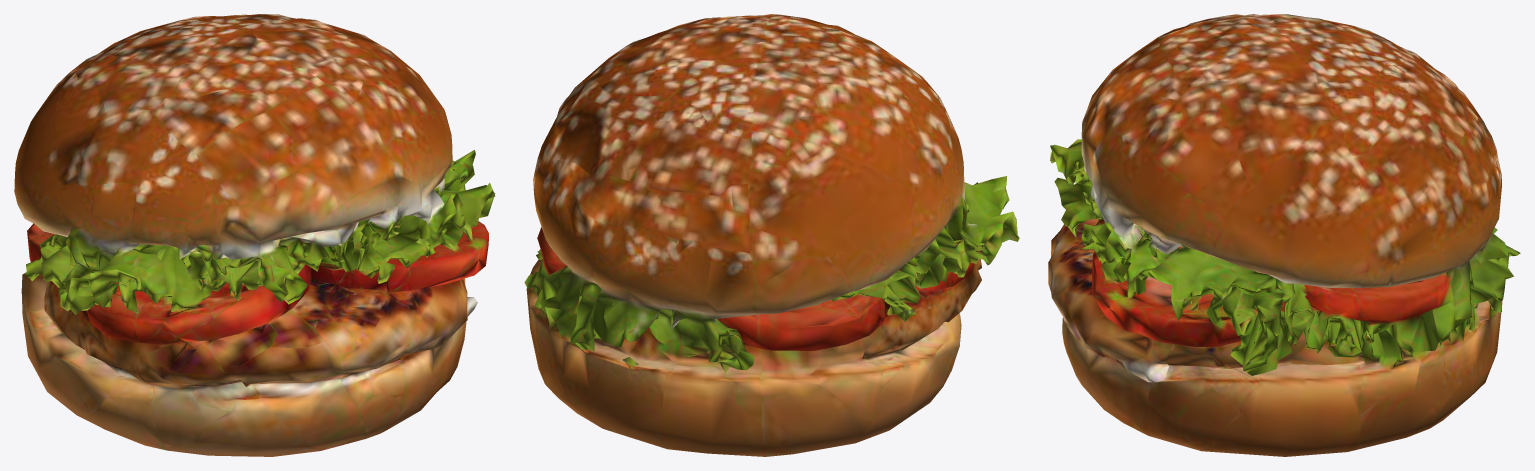
Rendered from chicken-burger-ar.glb.
The picture shows the model from 3 angles, left to right: view 1: azimuth 30°, elevation 25°; view 2: azimuth 150°, elevation 25°; view 3: azimuth 270°, elevation 25°; orthographic projection. The views are drawn at different scales.
Parts seen in each view (by area): view 1: mesh_node; view 2: mesh_node; view 3: mesh_node.
Boxes of the visible parts, x1,y1,x2,y2 form: mesh_node: (14, 14, 495, 456); mesh_node: (524, 14, 1019, 456); mesh_node: (1048, 14, 1520, 456).
Bounding box in the file's own units: 0.1694 × 0.1238 × 0.1571.
1 material, 1 textured.
